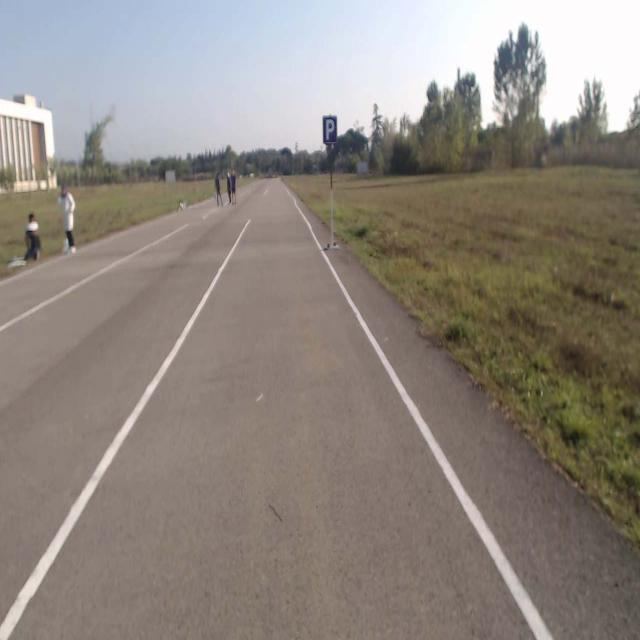park: (322, 115, 337, 142)
